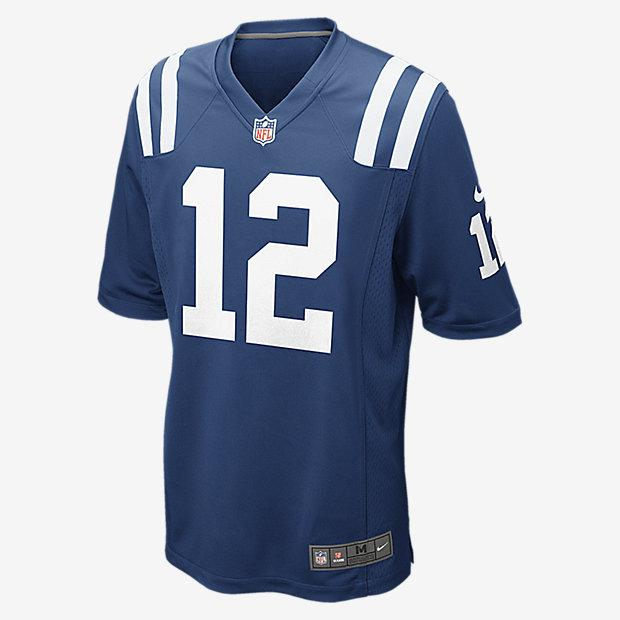teeshirt: (81, 16, 511, 620)
